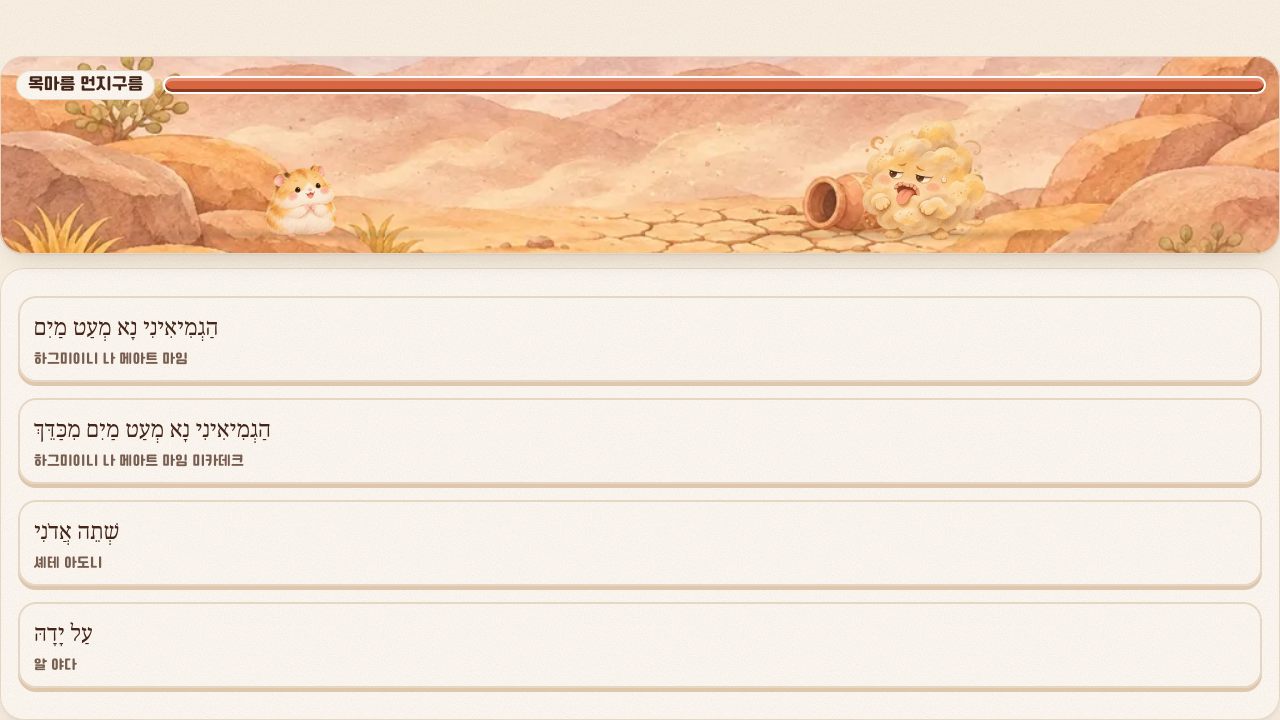
RoleplayView › wrong answer feedback comes with Zoe
(page scrolled)
What coordinates should you click on to do the following:
click the button "עַל יָדָהּ 알 야다"
I would click on:
 (63, 635)
Its box is [18, 602, 1262, 688].
(page scrolled)
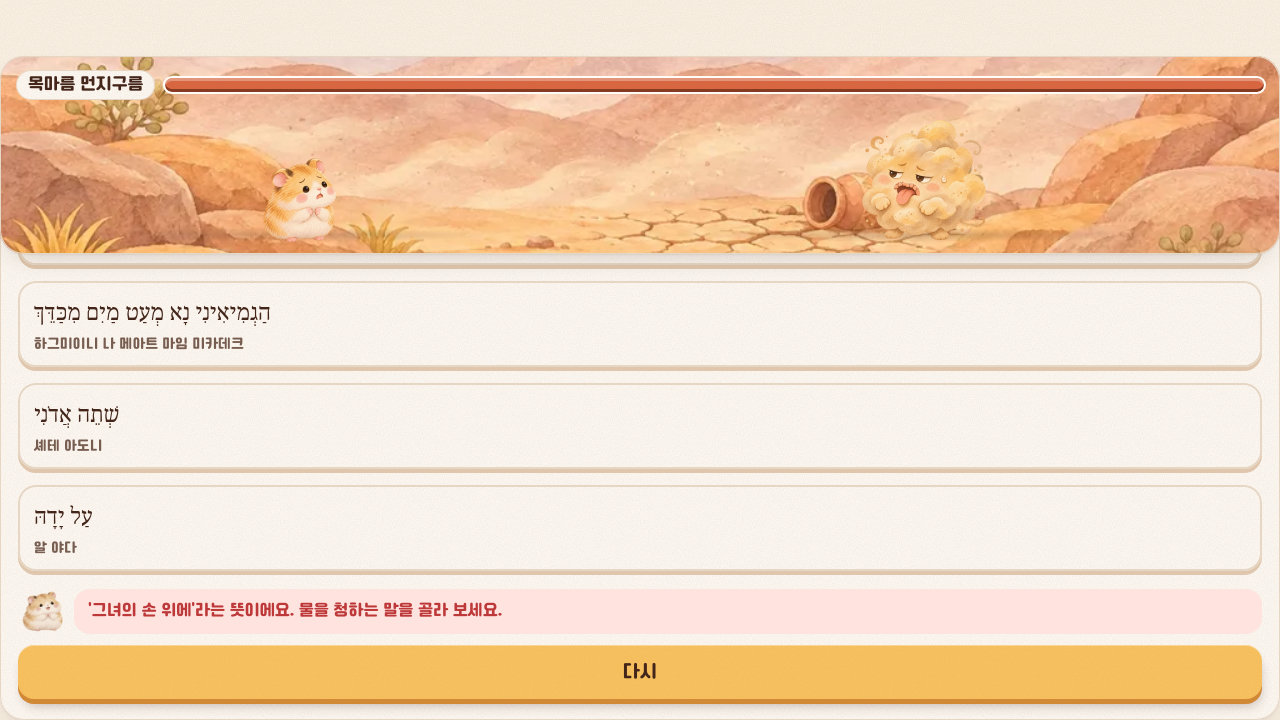
Now the message shows "그녀의 손 위에", box [88, 601, 502, 620]
Now the element with test id "zoe-feedback" is shown, box [18, 588, 1262, 636]
